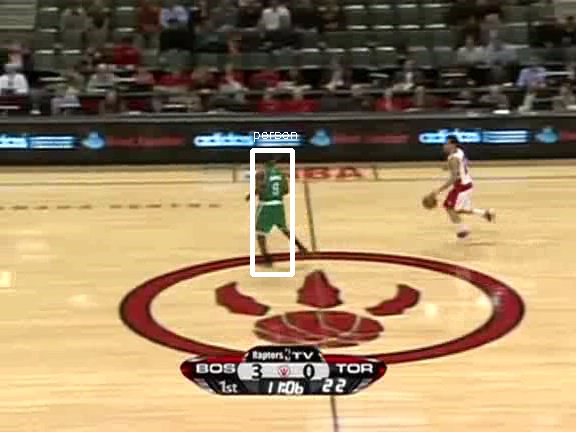person: (255, 162, 289, 243), (254, 162, 288, 243), (256, 162, 290, 243), (255, 161, 289, 242), (255, 163, 289, 244)
target_negative: (31, 5, 317, 307), (359, 208, 473, 426), (187, 385, 480, 420), (496, 357, 528, 410), (556, 36, 569, 115), (57, 400, 73, 420)
